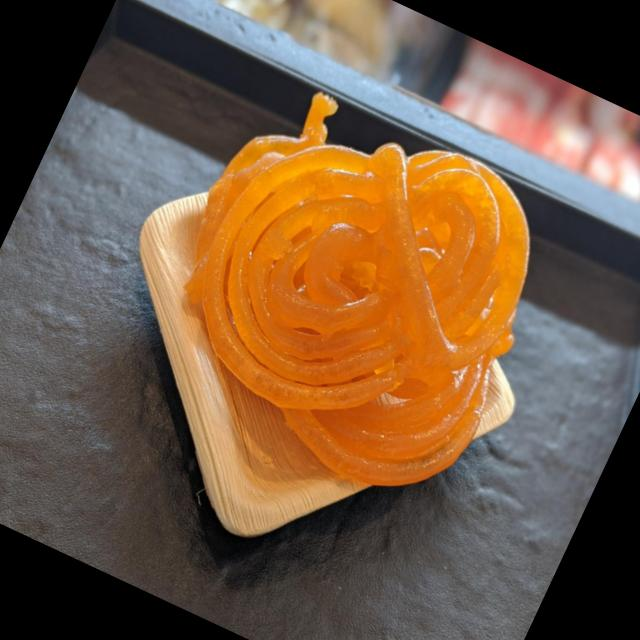jalebi: (112, 51, 574, 548)
